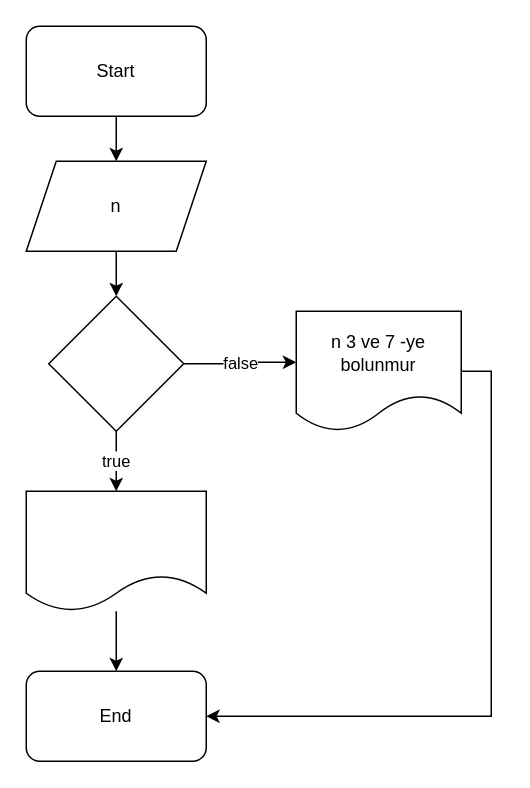
The diagram is 530 pixels wide and 788 high, and some of its shapes have lost their labels. Each missing label, with the centre of its shape:
"n 3 ve 7 -ye bolunur" goes at point 115,550.
"n%3==0 and n%7==0" goes at point 115,363.
